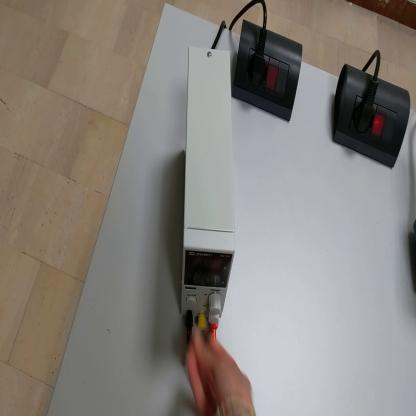hand: (186, 329, 256, 416)
power supply: (181, 46, 237, 326)
socket: (334, 59, 412, 171), (235, 17, 307, 123)
